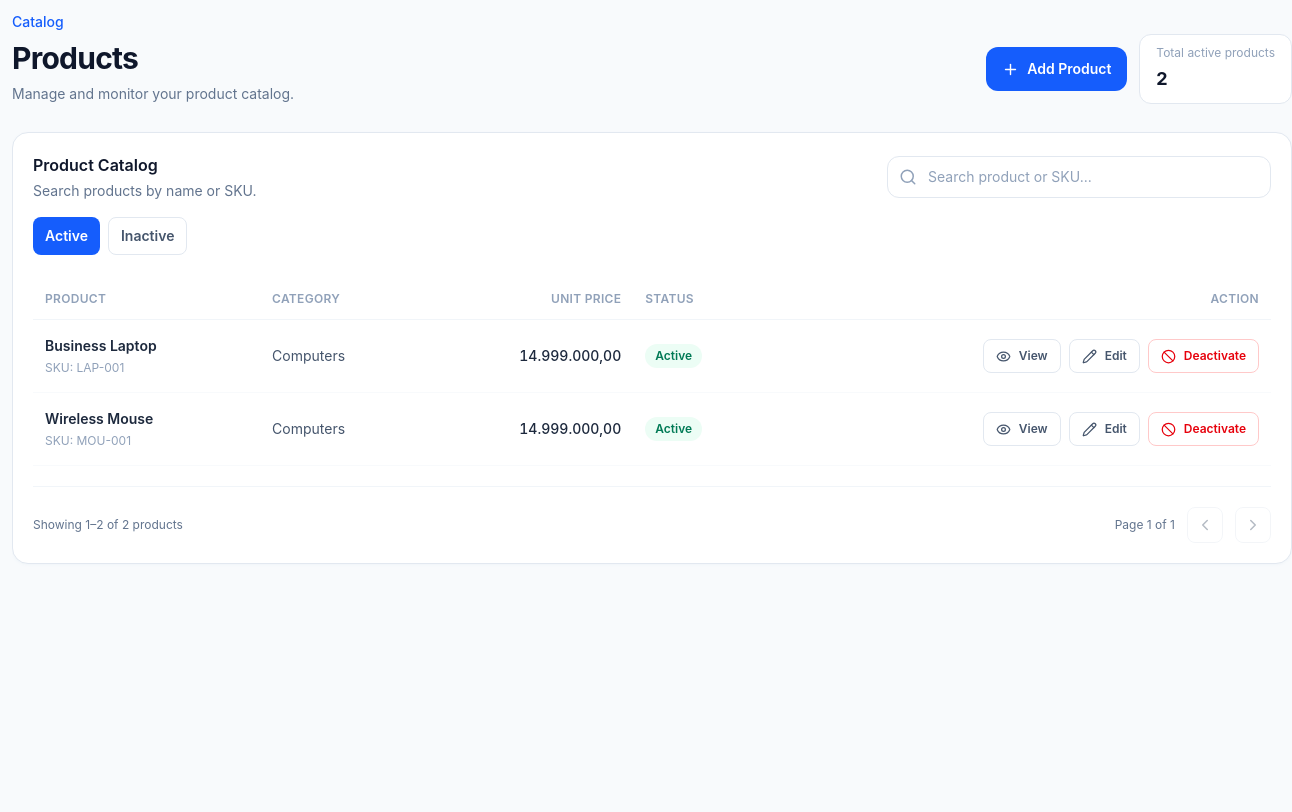
Test: ProductsPage › searches products by name or SKU
Check: the text "Business Laptop" is shown, box x1=45 y1=337 x2=157 y2=354
Check: the text "Wireless Mouse" is shown, box x1=45 y1=410 x2=153 y2=427
Type "WIRELESS" into the search field named "Search products by name or SKU" at coordinates (1079, 177), box x1=887 y1=156 x2=1271 y2=198
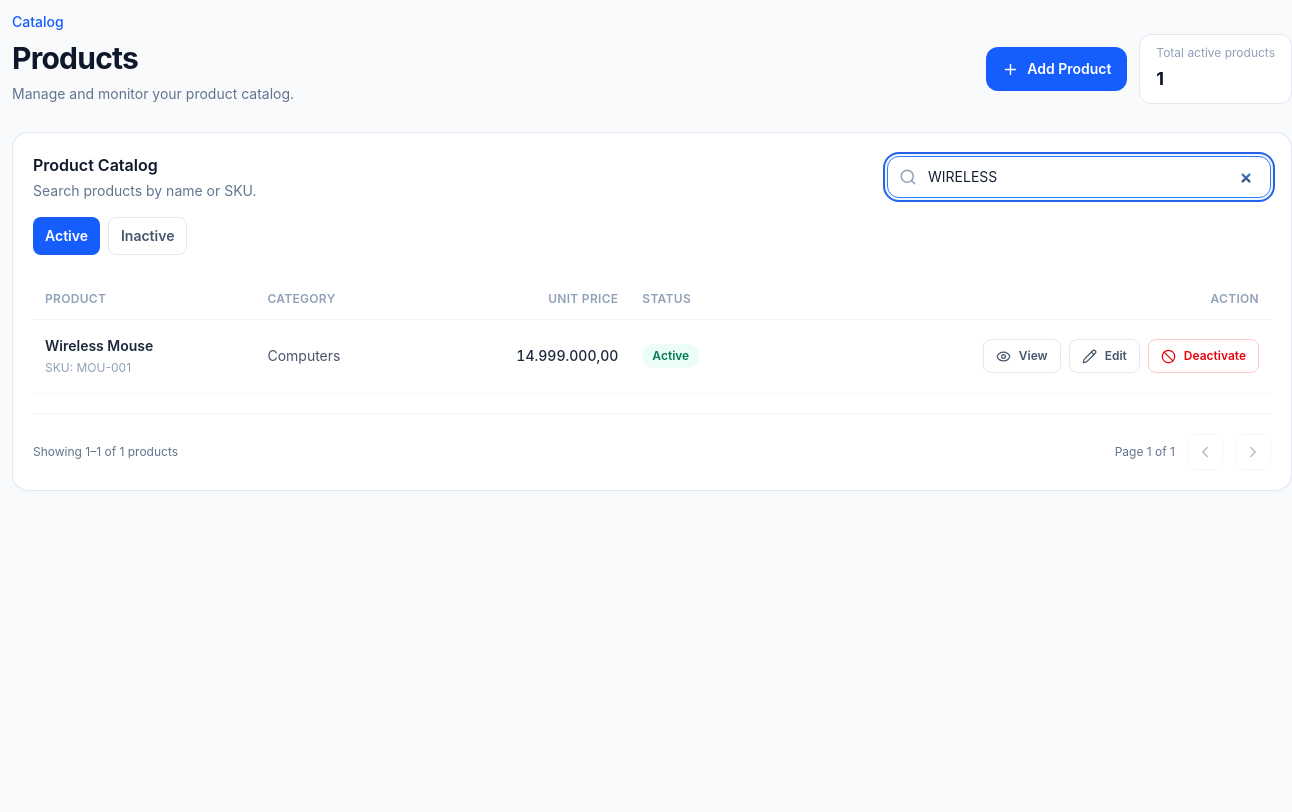
Check: the text "Wireless Mouse" is shown, box x1=45 y1=337 x2=153 y2=354
Check: the text "Business Laptop" is gone
